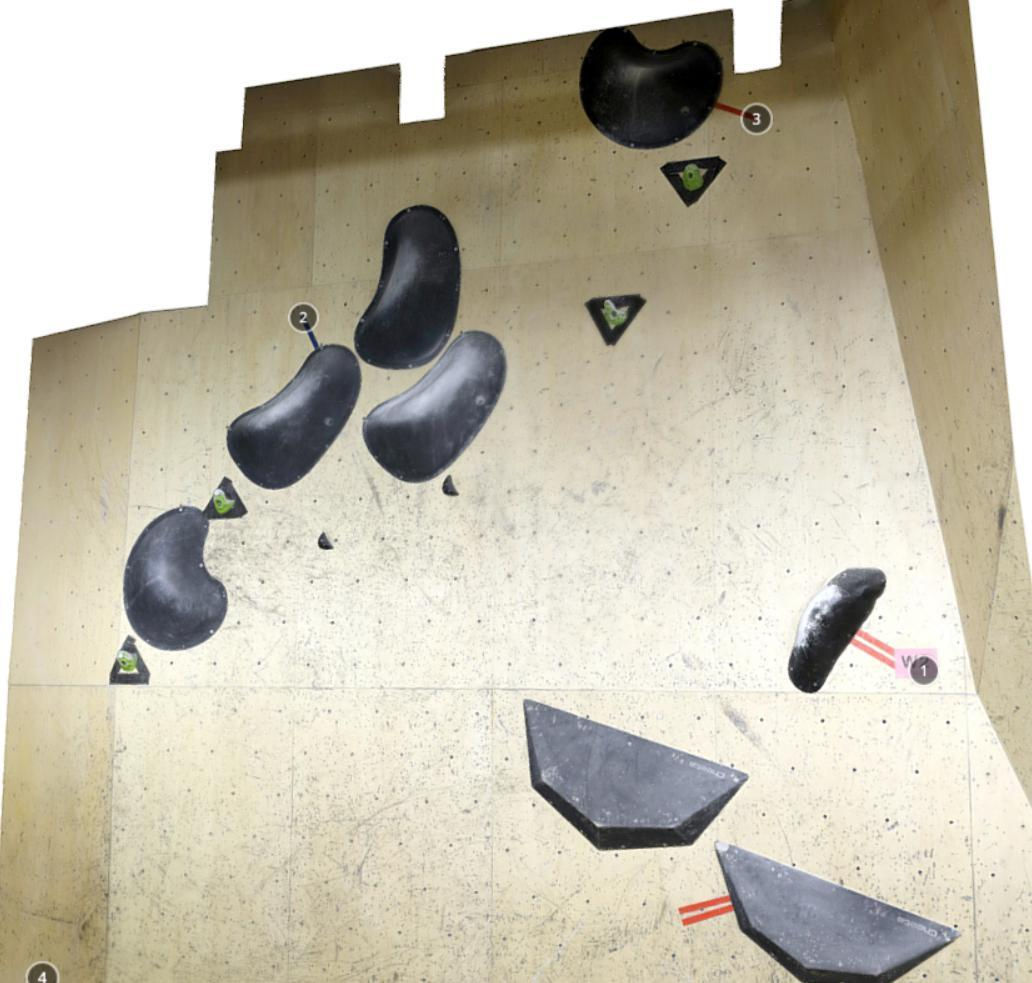hold: (361, 330, 508, 483), (227, 344, 361, 488), (353, 203, 463, 370), (579, 27, 724, 150), (122, 505, 228, 651), (787, 567, 887, 694), (660, 156, 727, 207), (584, 295, 648, 346), (203, 475, 248, 520), (109, 636, 150, 684), (442, 475, 460, 496), (318, 532, 334, 550)
volume: (714, 838, 964, 983), (524, 696, 749, 851)
